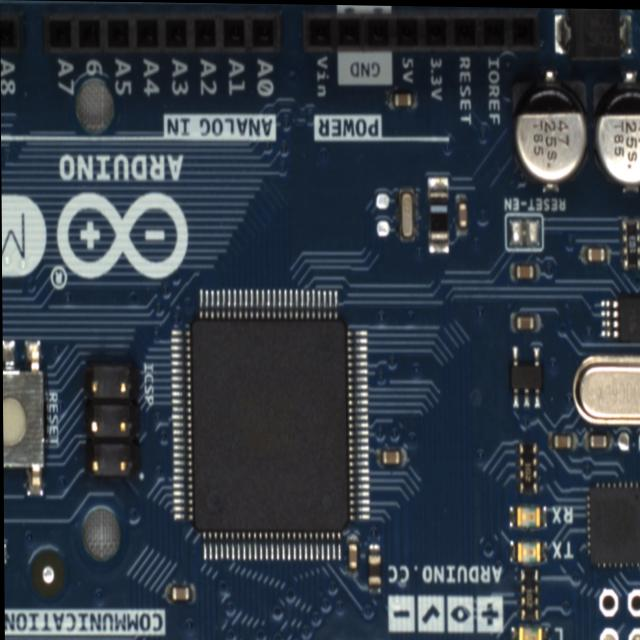IC: (169, 285, 375, 563), (586, 475, 640, 570), (553, 6, 634, 62), (510, 341, 545, 413), (599, 289, 640, 344)
LED: (508, 503, 548, 528), (510, 539, 547, 565), (509, 622, 548, 640), (3, 541, 8, 567)
button: (2, 337, 45, 499)
capacitor: (163, 578, 196, 607), (386, 86, 419, 111), (508, 260, 541, 282), (510, 310, 543, 332), (547, 427, 578, 450), (582, 428, 614, 450), (580, 243, 612, 265), (375, 447, 407, 468), (345, 535, 360, 578), (456, 192, 469, 237)
clock: (570, 349, 640, 425), (398, 185, 416, 244)
component text: (528, 111, 572, 168), (611, 115, 640, 172), (587, 7, 617, 50), (523, 456, 533, 485), (628, 229, 637, 255), (525, 585, 533, 610)
connector: (303, 4, 545, 53), (45, 8, 284, 52), (82, 357, 142, 481), (597, 586, 640, 640), (0, 11, 26, 55)
diode: (428, 172, 449, 254)
electrolytic capacitor: (513, 67, 591, 196), (592, 68, 640, 196)
pads: (504, 210, 545, 254), (375, 188, 392, 243), (615, 431, 640, 453)
resistor: (517, 564, 540, 621), (518, 438, 537, 495), (620, 215, 640, 269), (369, 542, 381, 595)
